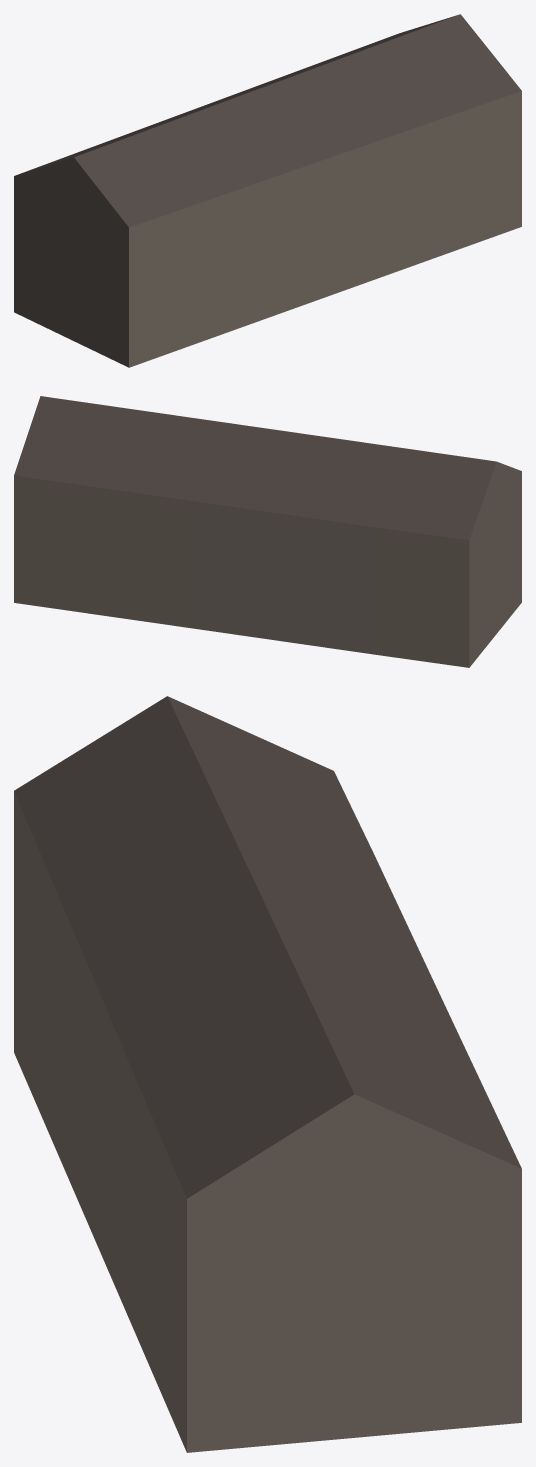
3 renders of one model, top to bottom at view 1: azimuth 30°, elevation 25°; view 2: azimuth 150°, elevation 25°; view 3: azimuth 270°, elevation 25°, orthographic. The views are drawn at different scales.
Visible parts, largest first — view 1: HP-w1198843242; view 2: HP-w1198843242; view 3: HP-w1198843242.
Boxes of the visible parts, box(x1,y1,x2,y2) form: HP-w1198843242: box(14, 14, 521, 367); HP-w1198843242: box(14, 396, 521, 667); HP-w1198843242: box(14, 696, 521, 1452).
Bounding box in the file's own units: 21.65 × 8.12 × 10.88.
